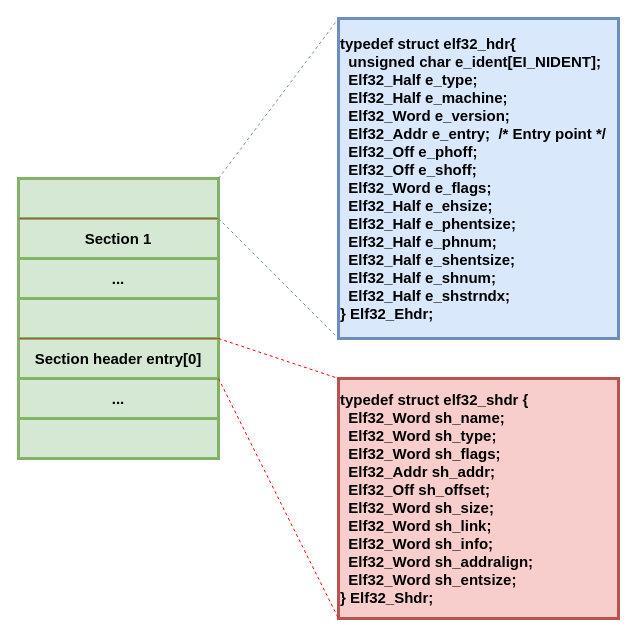
The diagram is 637 pixels wide and 637 high, and some of its shapes have lost their labels. The shapes that lost their labels are listed below. From the top down, each one's centre as x and y in pixels, then its label:
At (x=118, y=198): "ELF header".
At (x=118, y=318): "Section n".
At (x=118, y=438): "Section header entry[n]".
